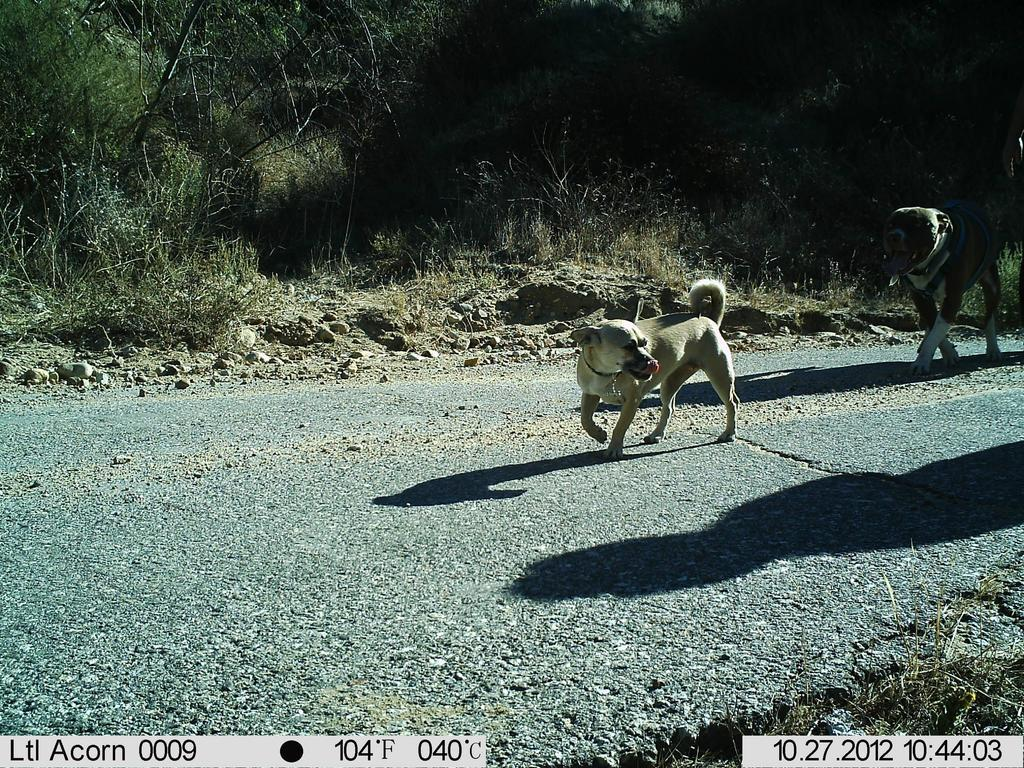dog: (570, 269, 748, 470), (879, 182, 1017, 382)
